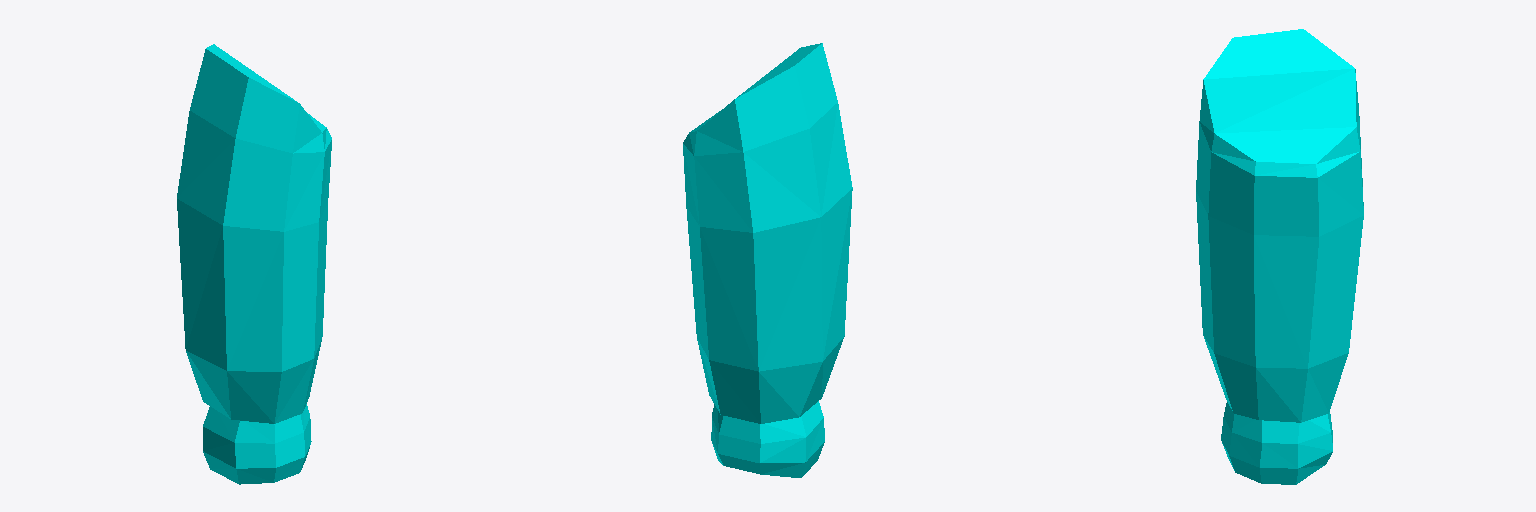
The model's file is player_things_r.obj.
3 renders of one model, left to right at view 1: azimuth 30°, elevation 25°; view 2: azimuth 150°, elevation 25°; view 3: azimuth 270°, elevation 25°, orthographic.
Visible parts, largest first — view 1: player_thighs_r1:DummyMeshgroup4; view 2: player_thighs_r1:DummyMeshgroup4; view 3: player_thighs_r1:DummyMeshgroup4.
Part boxes in pixels (x1,y1,x2,y2): player_thighs_r1:DummyMeshgroup4: (177,44,331,484); player_thighs_r1:DummyMeshgroup4: (683,43,852,477); player_thighs_r1:DummyMeshgroup4: (1196,29,1363,484).
Size of the model in its own units: 0.1872 by 0.562 by 0.2054.